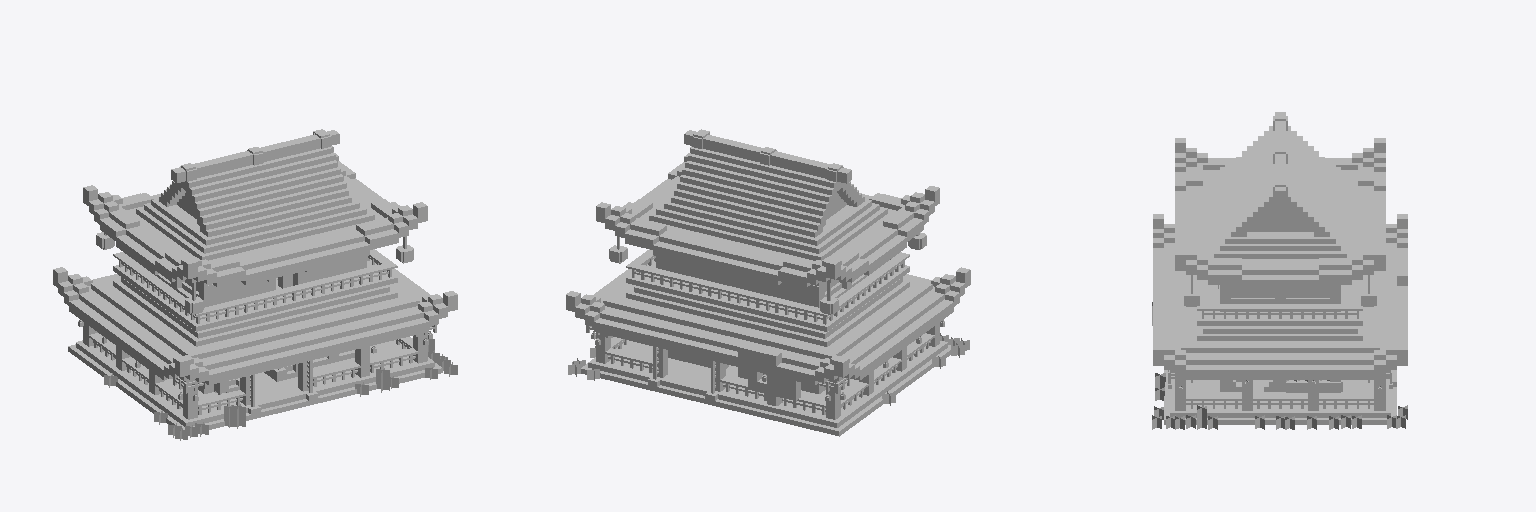
The model's file is JapneseHall_0.obj.
3 renders of one model, left to right at view 1: azimuth 30°, elevation 25°; view 2: azimuth 150°, elevation 25°; view 3: azimuth 270°, elevation 25°, orthographic.
Parts seen in each view (by area): view 1: __-57_69_-115_to_-29_319_-93; view 2: __-57_69_-115_to_-29_319_-93; view 3: __-57_69_-115_to_-29_319_-93.
Part boxes in pixels (left/top/right/bottom): __-57_69_-115_to_-29_319_-93: left=53, top=129, right=457, bottom=440; __-57_69_-115_to_-29_319_-93: left=566, top=129, right=970, bottom=436; __-57_69_-115_to_-29_319_-93: left=1152, top=112, right=1407, bottom=429.
Size of the model in its own units: 29.18 by 21.19 by 23.08.